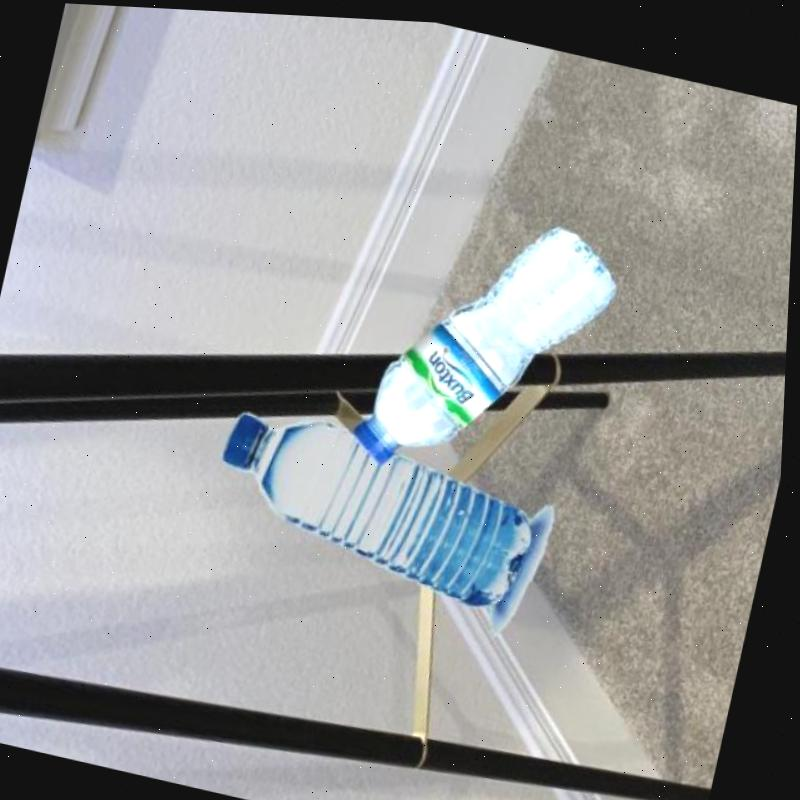botella: (345, 181, 632, 502), (204, 396, 562, 613)
